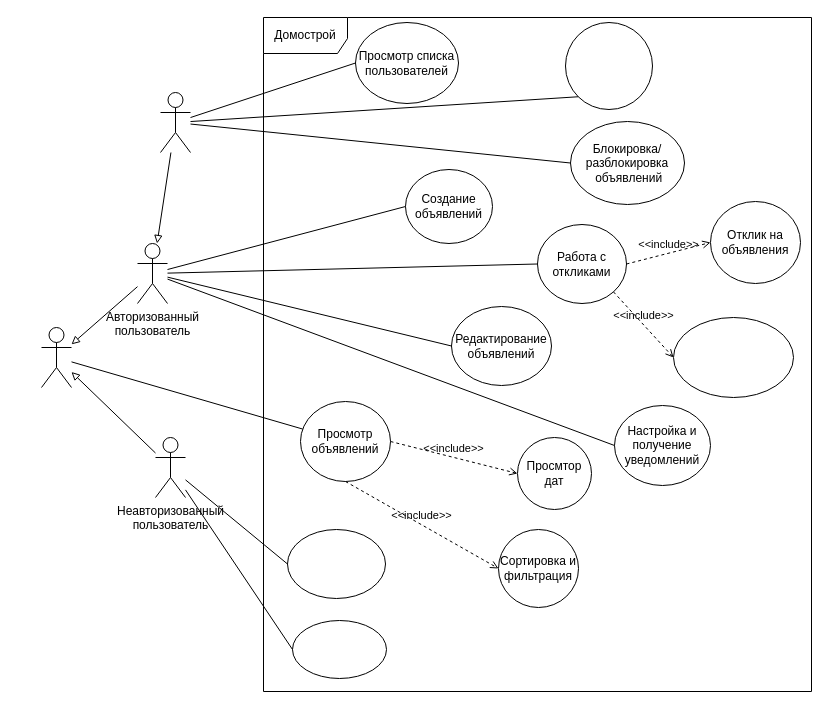
The diagram is 829 pixels wide and 709 high, and some of its shapes have lost their labels. Here are the shapes that lost their labels. From the top down, the box of each, then its label:
(564, 22, 652, 110): Блокировка/разблокировка пользований
(160, 92, 190, 152): Администратор
(40, 326, 72, 388): Пользователь
(672, 316, 794, 398): Ответ на отклики к объявлениям пользователя
(286, 528, 386, 598): Авторизация
(292, 620, 386, 678): Регистрация
